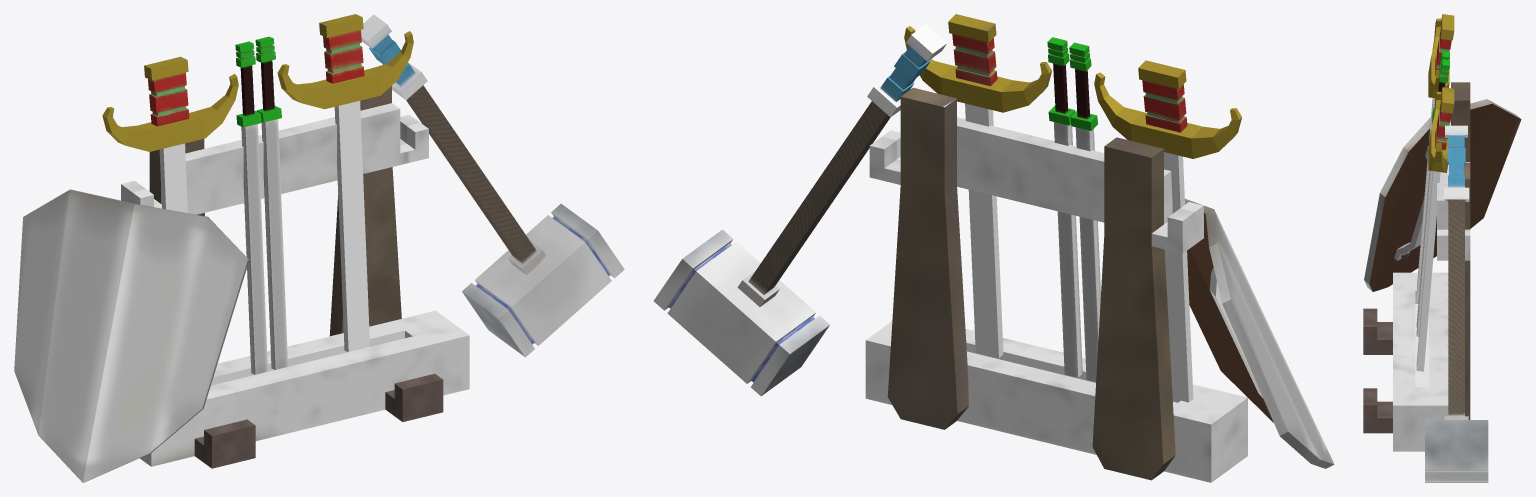
Rendered from GuardaArmas.fbx.
3 renders of one model, left to right at view 1: azimuth 30°, elevation 25°; view 2: azimuth 150°, elevation 25°; view 3: azimuth 270°, elevation 25°, orthographic. The views are drawn at different scales.
Parts seen in each view (by area): view 1: LOD_0; view 2: LOD_0; view 3: LOD_0.
Boxes of the visible parts, x1,y1,x2,y2 form: LOD_0: (14,14,624,482); LOD_0: (653,14,1334,482); LOD_0: (1363,14,1521,482).
Size of what is drawn, in the model's own units: 253 by 154 by 69.57.
